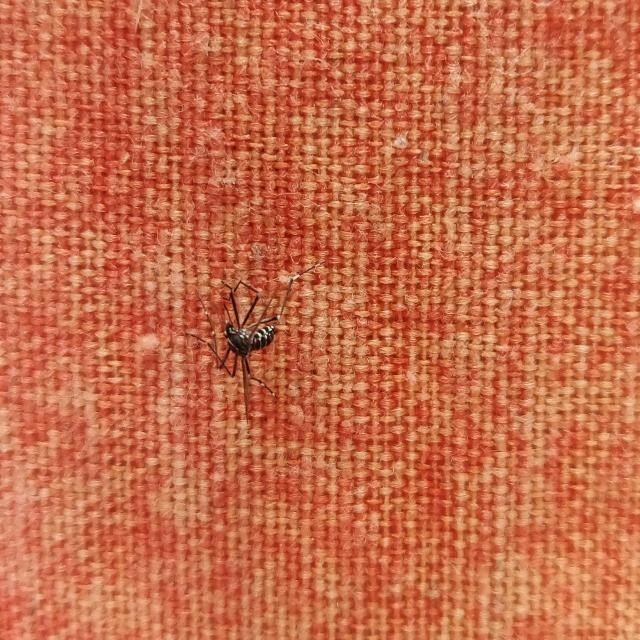albopictus: (188, 254, 312, 416)
